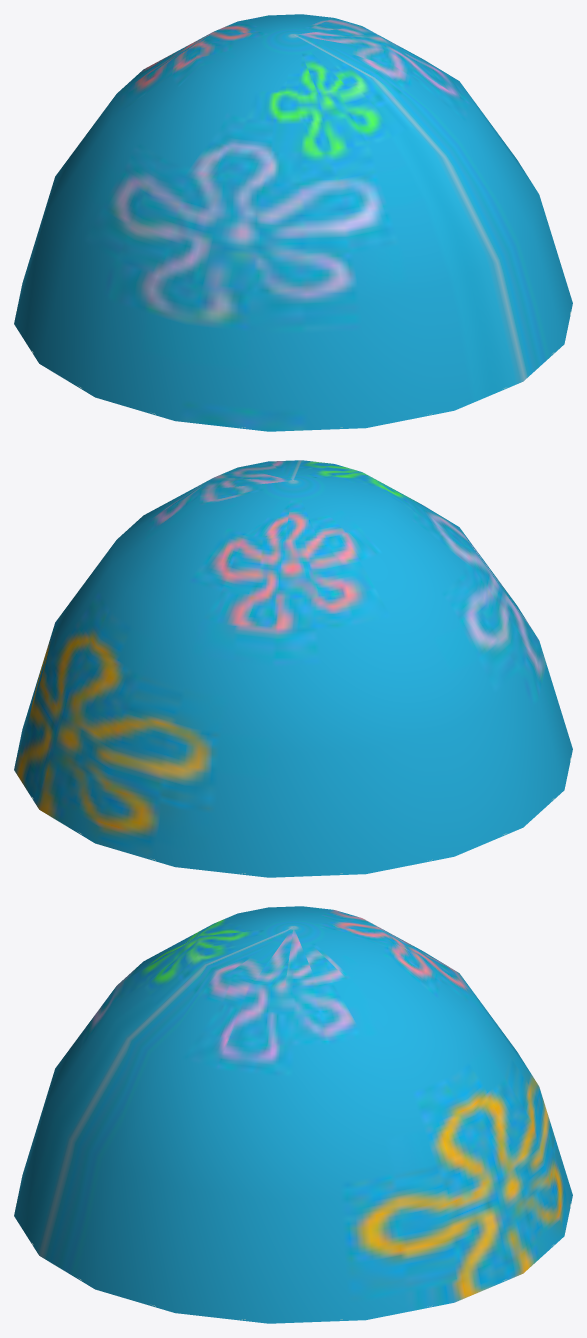
The model's file is Squidward's House.FBX.
The picture shows the model from 3 angles, top to bottom: view 1: azimuth 30°, elevation 25°; view 2: azimuth 150°, elevation 25°; view 3: azimuth 270°, elevation 25°; orthographic projection.
Parts seen in each view (by area): view 1: Skybox; view 2: Skybox; view 3: Skybox.
Boxes of the visible parts, x1,y1,x2,y2 form: Skybox: (14,14,572,431); Skybox: (14,460,572,877); Skybox: (14,906,572,1323).
Bounding box in the file's own units: 1498 × 824 × 1498.
Materials: 9 (5 with a texture image).
